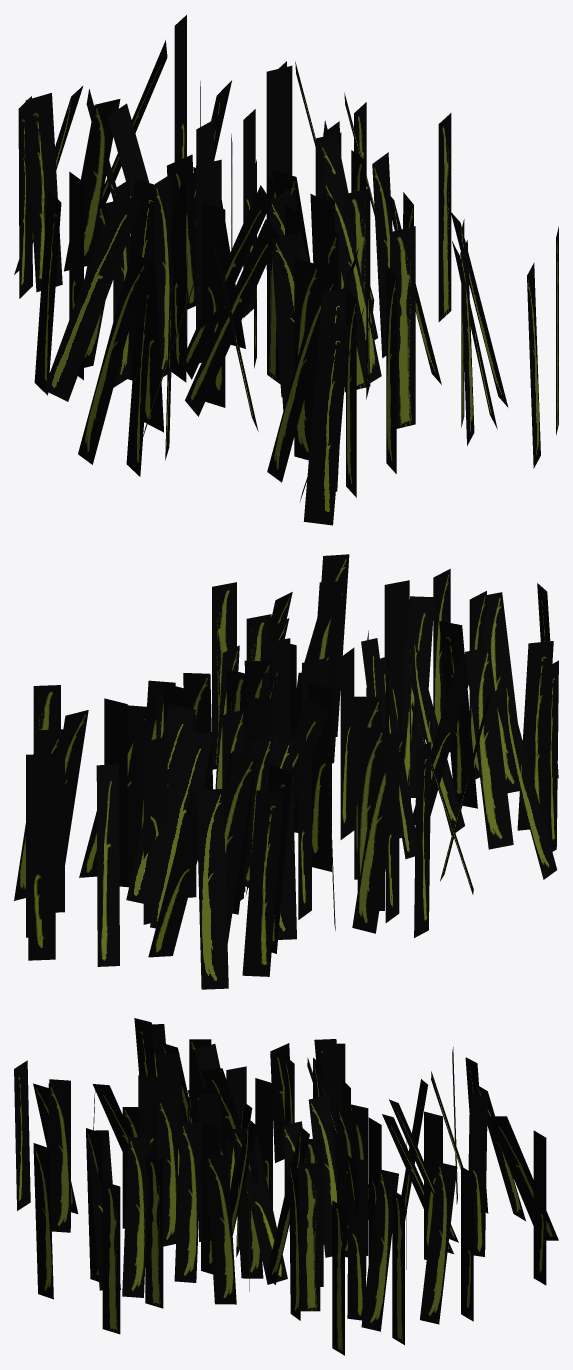
The model's file is grass1.fbx.
3 renders of one model, top to bottom at view 1: azimuth 30°, elevation 25°; view 2: azimuth 150°, elevation 25°; view 3: azimuth 270°, elevation 25°, orthographic. The views are drawn at different scales.
Parts seen in each view (by area): view 1: Plane.037, Plane.008, Plane.075, Plane.067, Plane.018, Plane.009, Plane.019, Plane, Plane.076, Plane.074, Plane.069, Plane.007 (+42 smaller); view 2: Plane.049, Plane.047, Plane.041, Plane.029, Plane.048, Plane.068, Plane.079, Plane.043, Plane.070, Plane.027, Plane.009, Plane.069 (+53 smaller); view 3: Plane.026, Plane.036, Plane.014, Plane.046, Plane.032, Plane.015, Plane.056, Plane.035, Plane.053, Plane.025, Plane.043, Plane.012 (+46 smaller).
Part boxes in pixels (left/top/right/bottom): Plane.037: left=303, top=322, right=349, bottom=525; Plane.008: left=43, top=191, right=141, bottom=401; Plane.075: left=390, top=226, right=415, bottom=428; Plane.067: left=25, top=93, right=62, bottom=292; Plane.018: left=185, top=219, right=279, bottom=416; Plane.009: left=78, top=251, right=146, bottom=464; Plane.019: left=267, top=269, right=336, bottom=482; Plane: left=201, top=202, right=225, bottom=407; Plane.076: left=323, top=171, right=381, bottom=385; Plane.074: left=272, top=232, right=301, bottom=410; Plane.069: left=64, top=99, right=120, bottom=271; Plane.007: left=126, top=271, right=153, bottom=476; Plane.049: left=196, top=789, right=228, bottom=989; Plane.047: left=242, top=790, right=283, bottom=976; Plane.041: left=28, top=776, right=55, bottom=960; Plane.029: left=465, top=647, right=513, bottom=849; Plane.048: left=96, top=764, right=119, bottom=966; Plane.068: left=126, top=704, right=195, bottom=905; Plane.079: left=352, top=732, right=405, bottom=933; Plane.043: left=148, top=792, right=197, bottom=957; Plane.070: left=308, top=683, right=331, bottom=871; Plane.027: left=517, top=641, right=553, bottom=830; Plane.009: left=493, top=683, right=556, bottom=879; Plane.069: left=224, top=751, right=255, bottom=942; Plane.026: left=174, top=1121, right=202, bottom=1282; Plane.036: left=122, top=1137, right=150, bottom=1297; Plane.014: left=206, top=1155, right=236, bottom=1304; Plane.046: left=420, top=1162, right=457, bottom=1324; Plane.032: left=48, top=1083, right=70, bottom=1232; Plane.015: left=298, top=1163, right=320, bottom=1311; Plane.056: left=361, top=1169, right=398, bottom=1331; Plane.035: left=102, top=1181, right=120, bottom=1334; Plane.053: left=347, top=1158, right=366, bottom=1320; Plane.025: left=145, top=1155, right=163, bottom=1308; Plane.043: left=468, top=1094, right=487, bottom=1256; Plane.012: left=158, top=1095, right=177, bottom=1246.
Bounding box in the file's own units: 1744 × 937 × 2383.
